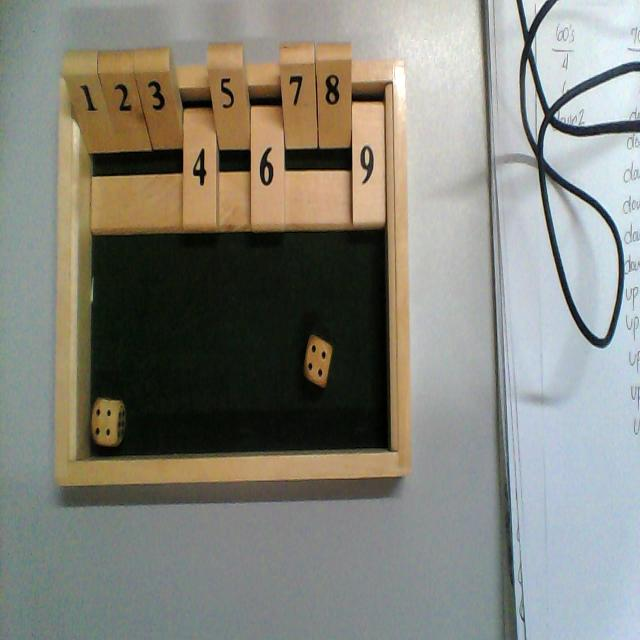4: (86, 387, 126, 453), (301, 329, 336, 392)
C4: (180, 69, 218, 231)
C6: (250, 61, 284, 234)
C9: (354, 59, 386, 230)
O1: (64, 51, 118, 231)
O2: (100, 51, 152, 228)
O3: (134, 51, 184, 228)
O5: (208, 42, 254, 232)
O7: (280, 45, 318, 233)
O8: (317, 42, 353, 230)
